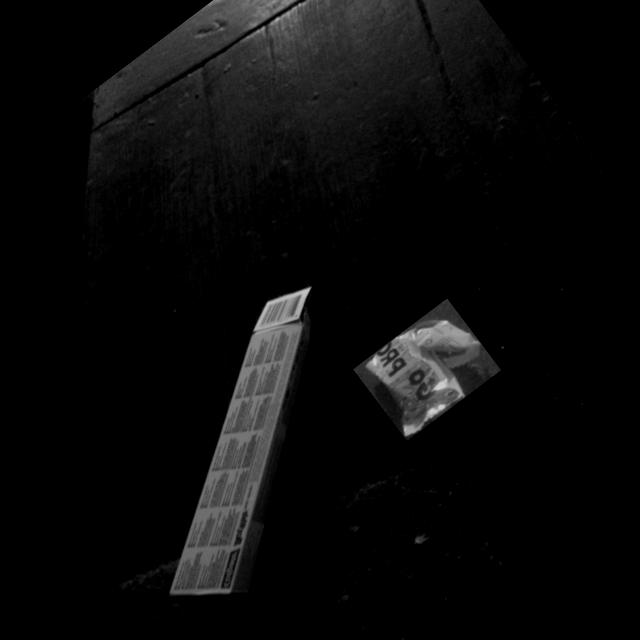Other Carton: (169, 286, 313, 597)
Other plastic: (364, 319, 481, 437)
